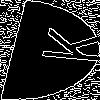K: (25, 25, 100, 65)
